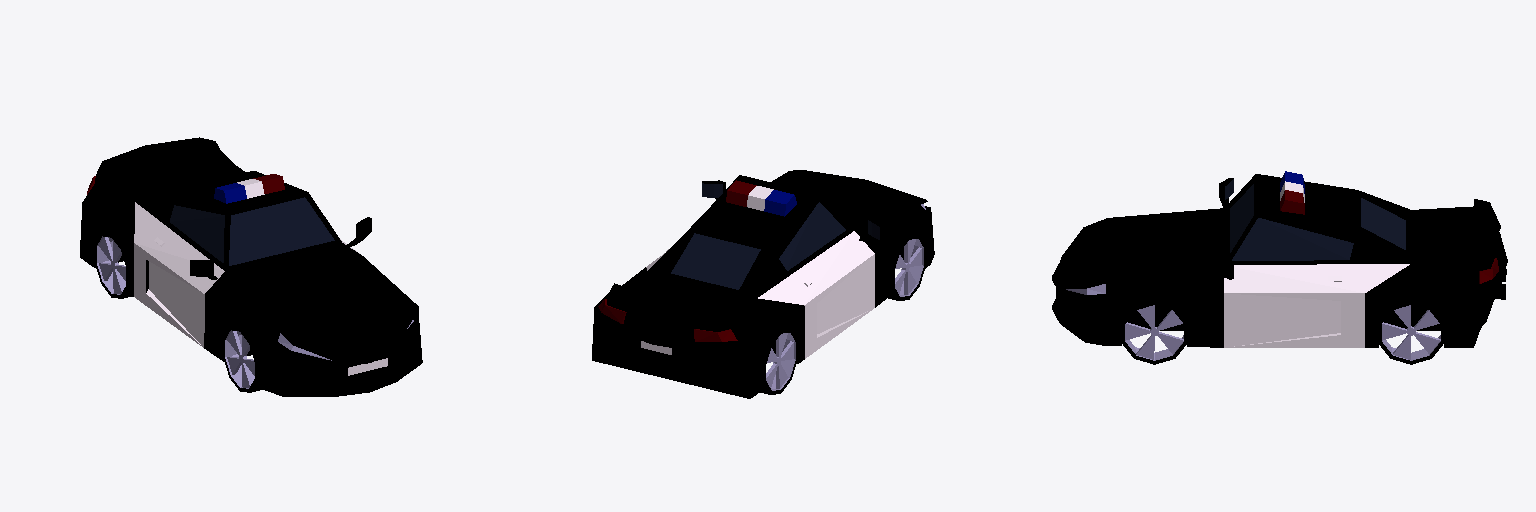
Rendered from police_sports.obj.
3 renders of one model, left to right at view 1: azimuth 30°, elevation 25°; view 2: azimuth 150°, elevation 25°; view 3: azimuth 270°, elevation 25°, orthographic.
Visible parts, largest first — view 1: Police_Sports; view 2: Police_Sports; view 3: Police_Sports.
Part boxes in pixels (left/top/right/bottom): Police_Sports: left=80, top=137, right=422, bottom=396; Police_Sports: left=592, top=170, right=934, bottom=398; Police_Sports: left=1052, top=171, right=1507, bottom=364.
Bounding box in the file's own units: 2.63 × 1.95 × 5.73.